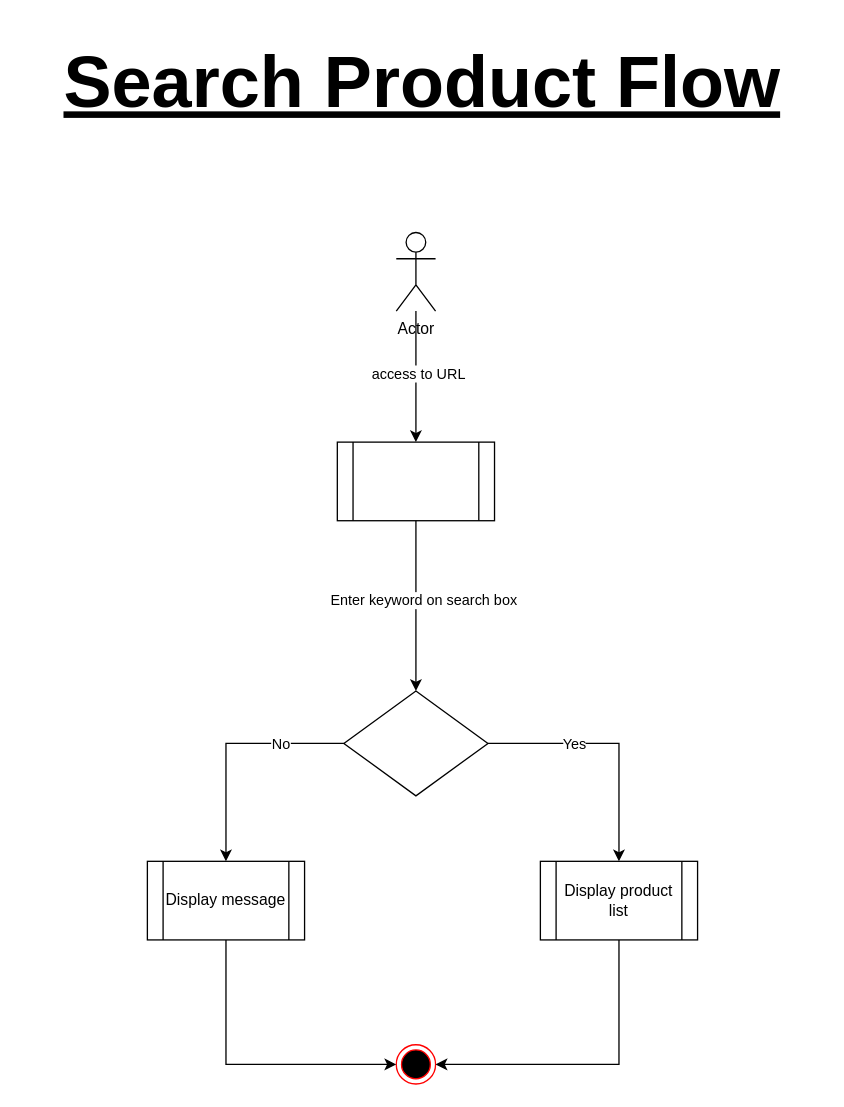
Some shapes in this 844 by 1107 pixel diagram are drawn without their labels. The box of each missing label's shape, as (x1, y1, x2, y2) in pixels:
browser display web page: (336, 441, 495, 521)
product existed ?: (343, 690, 488, 796)
